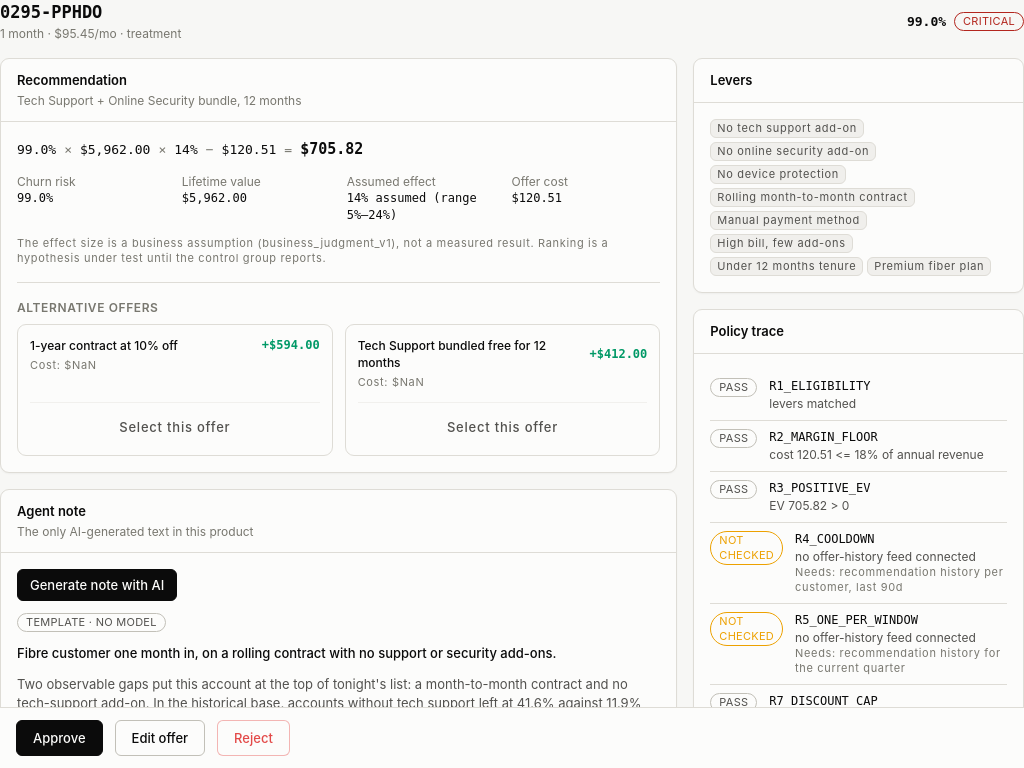
Scenario: CustomerPage › maps server-side fields errors onto form field error slots
Expected: the heading "0295-PPHDO" is shown, 0,2 -> 102,22
Click the button "Approve".
click(59, 738)  # box 16,720 -> 102,756
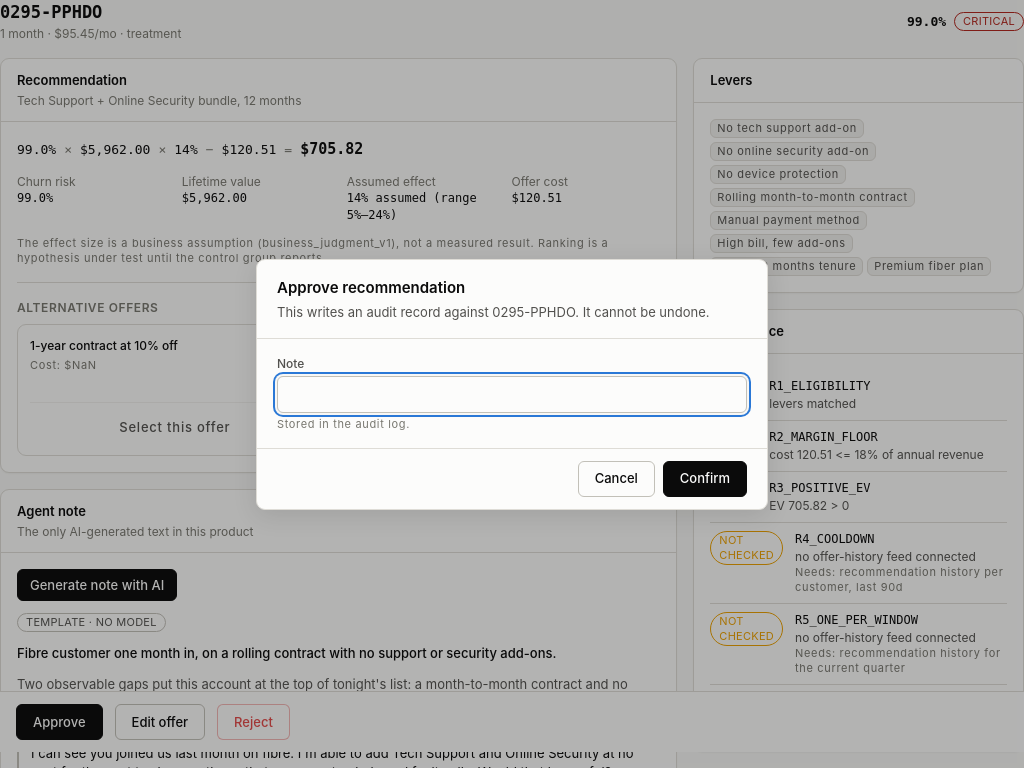
Type "Short" into the field labelled "Note".
click(512, 394); type("Short")  # box 277,376 -> 747,412
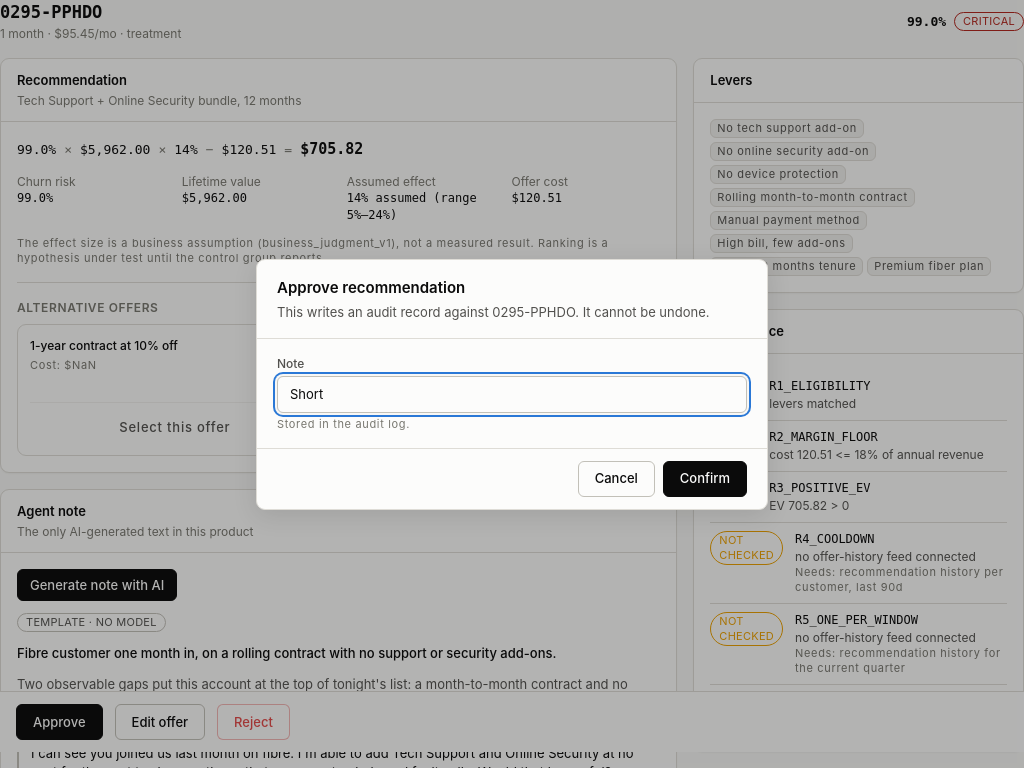
Click the button "Confirm".
click(705, 478)  # box 663,460 -> 747,496
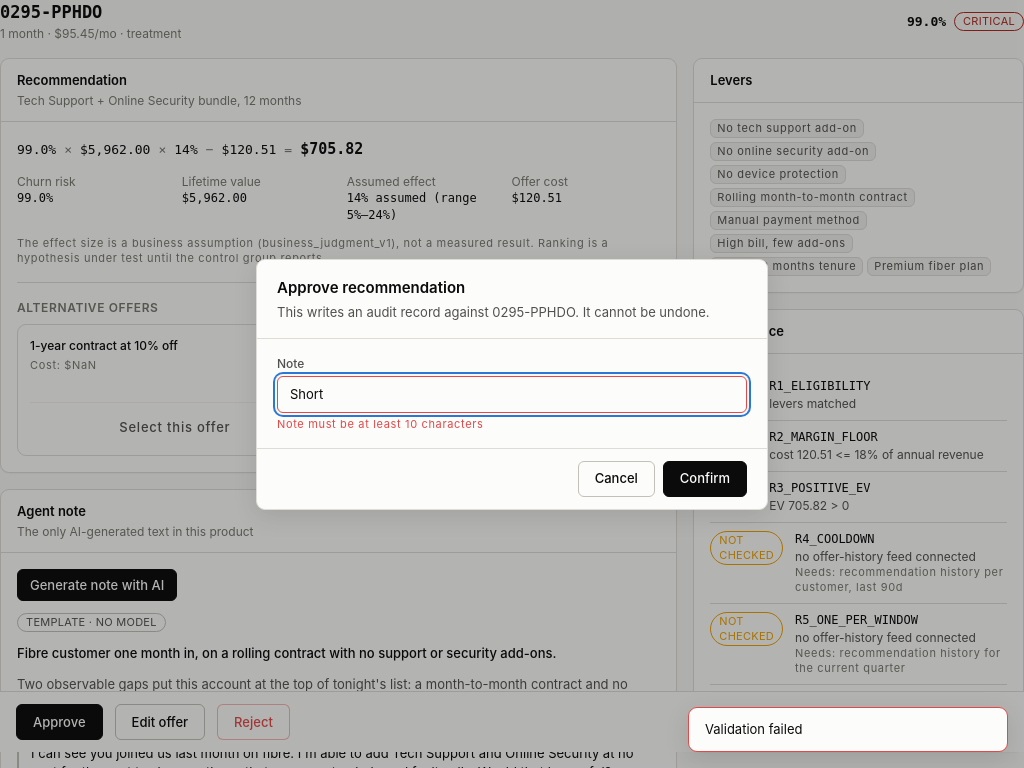
Expected: the text "Note must be at least 10 characters" is shown, 277,416 -> 484,430
